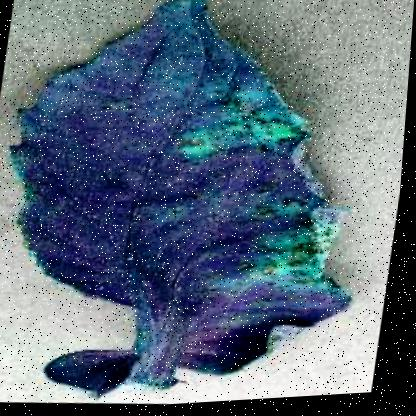BACTERIAL SPOT: (0, 0, 401, 415)
